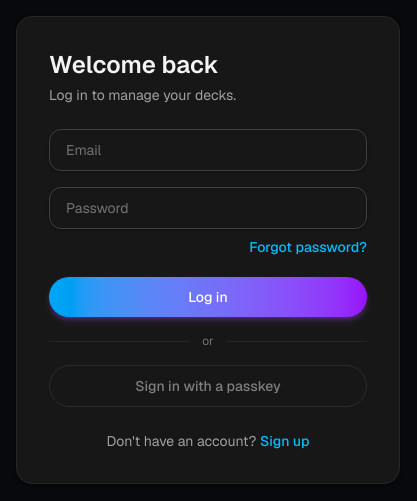
Scenario: LoginPage passkey sign-in › keeps the passkey button disabled until an email is entered
The image size is (417, 501).
Expected: the button "Sign in with a passkey" is disabled, [49, 365, 367, 407]
Type "alice@example.com" into the field with placeholder "Email" at (208, 150), box [49, 129, 367, 171]
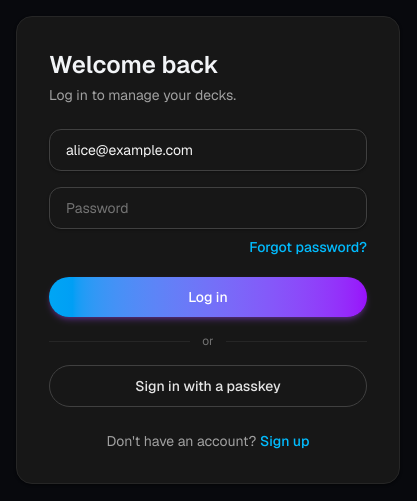
Now the button "Sign in with a passkey" is enabled, box [49, 365, 367, 407]
